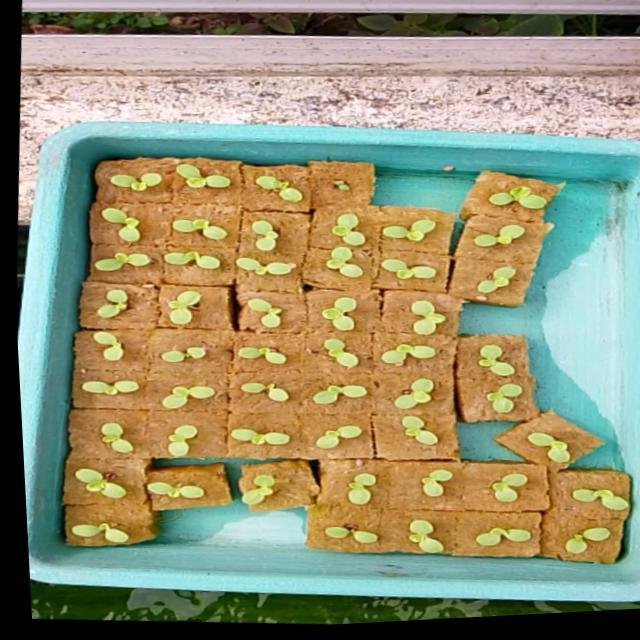Baby: (494, 422, 555, 467), (61, 424, 128, 461), (534, 525, 604, 560), (529, 491, 587, 523), (352, 253, 411, 283), (371, 379, 430, 409), (362, 341, 414, 372), (212, 296, 260, 329), (53, 282, 97, 318), (126, 339, 192, 362), (466, 383, 504, 420), (464, 185, 522, 209), (144, 160, 199, 185), (456, 526, 521, 547), (225, 172, 273, 200), (59, 250, 123, 271), (385, 300, 421, 336), (135, 387, 189, 411), (69, 205, 106, 240), (212, 381, 266, 404), (295, 297, 329, 332), (137, 289, 171, 324), (298, 246, 335, 278), (288, 385, 343, 406), (387, 521, 422, 554), (380, 416, 416, 448), (448, 225, 500, 247), (304, 214, 338, 247), (299, 338, 335, 369), (133, 249, 191, 268), (206, 256, 267, 274), (452, 266, 491, 294), (78, 169, 131, 189), (468, 473, 503, 503), (358, 216, 409, 236), (141, 427, 172, 458), (325, 475, 354, 507), (65, 332, 96, 361), (212, 347, 261, 365), (53, 382, 111, 397), (222, 217, 249, 249), (456, 344, 492, 368), (400, 471, 430, 499), (295, 427, 329, 450), (142, 217, 186, 233)
